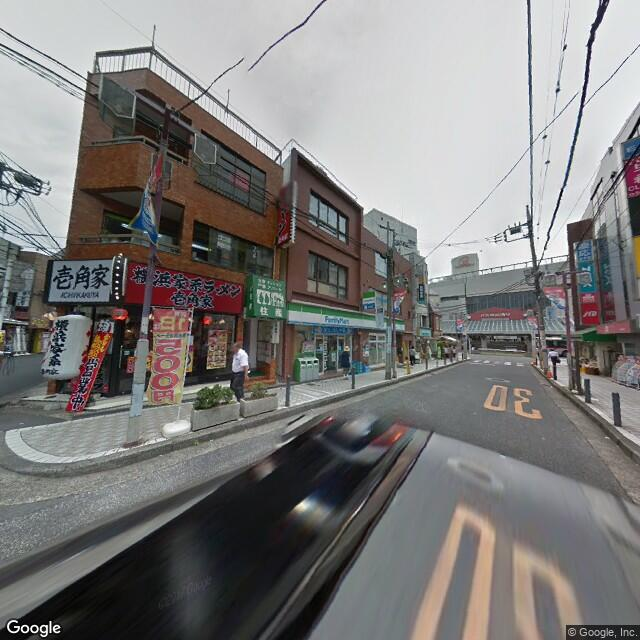family_mart: (284, 301, 406, 336), (359, 288, 378, 314)
